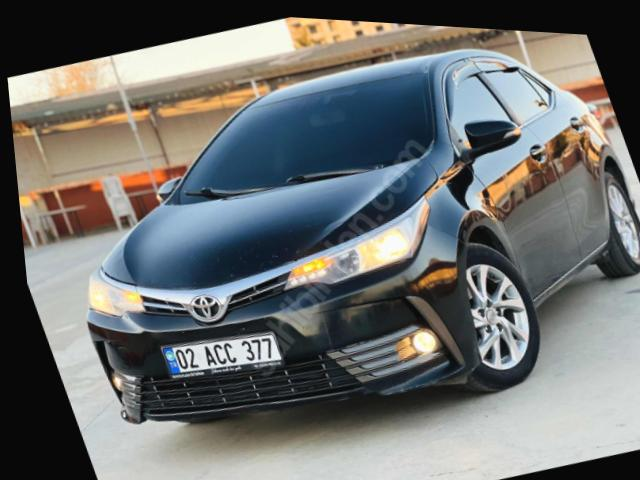plaka: (162, 332, 282, 378)
